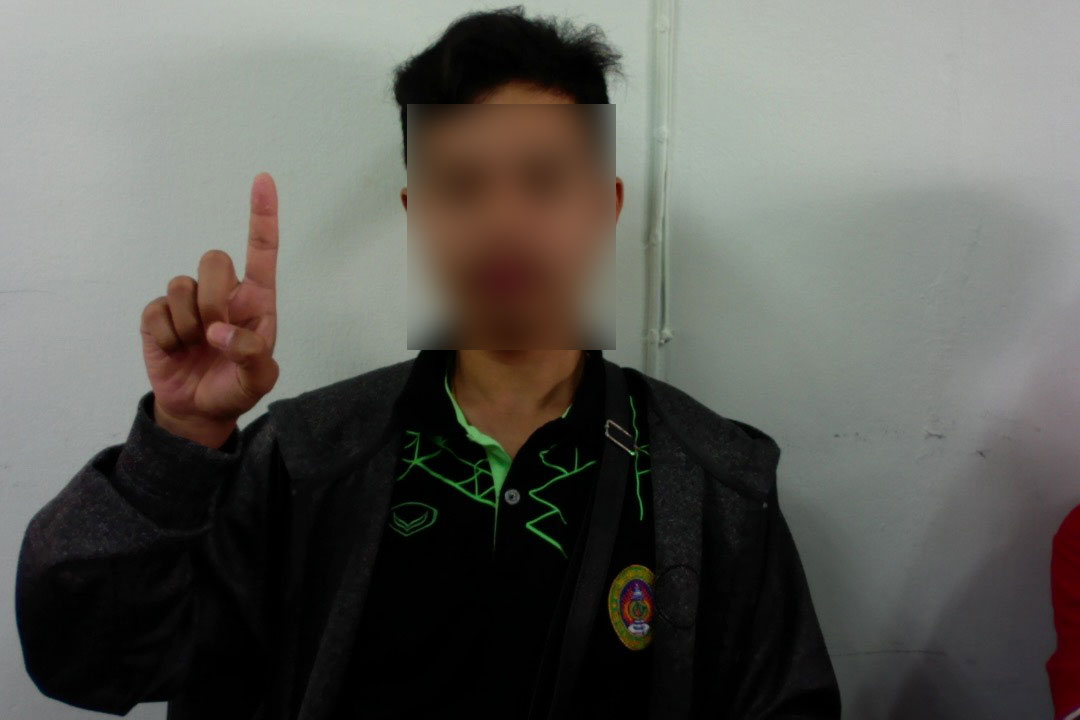dor: (123, 161, 303, 433)
